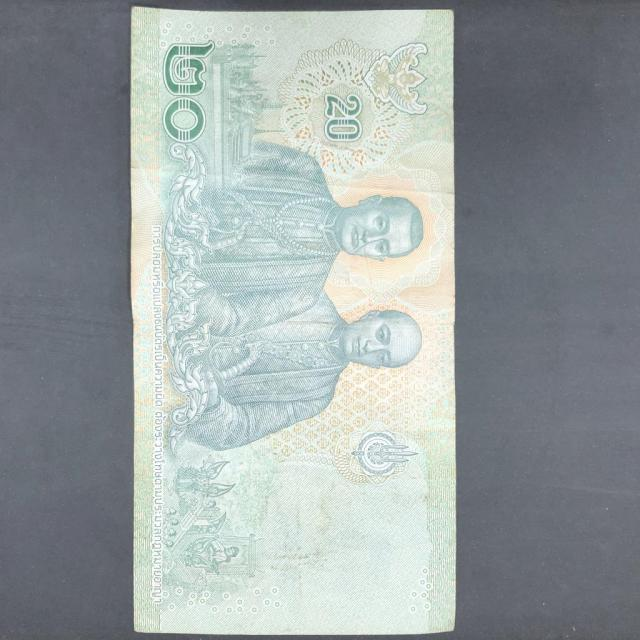THAI20: (131, 7, 456, 634)
